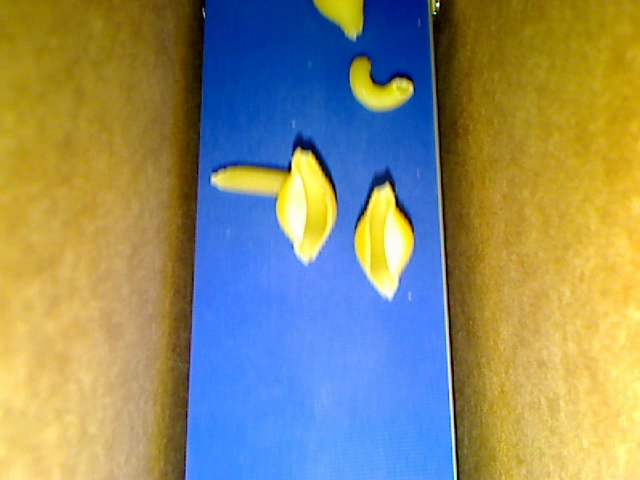elbow: (348, 58, 413, 111)
penne: (210, 167, 297, 195)
shell: (353, 180, 413, 300), (276, 146, 336, 264), (313, 1, 363, 41)
